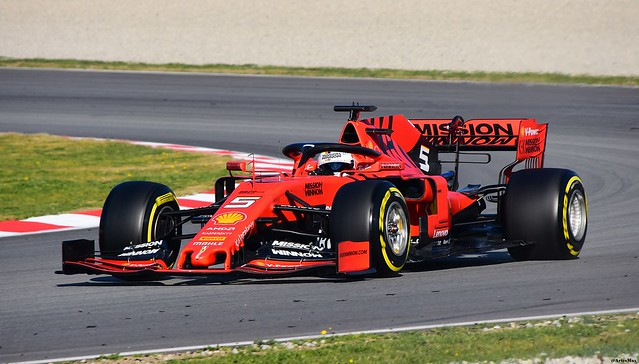F1 Car: (56, 101, 590, 285)
